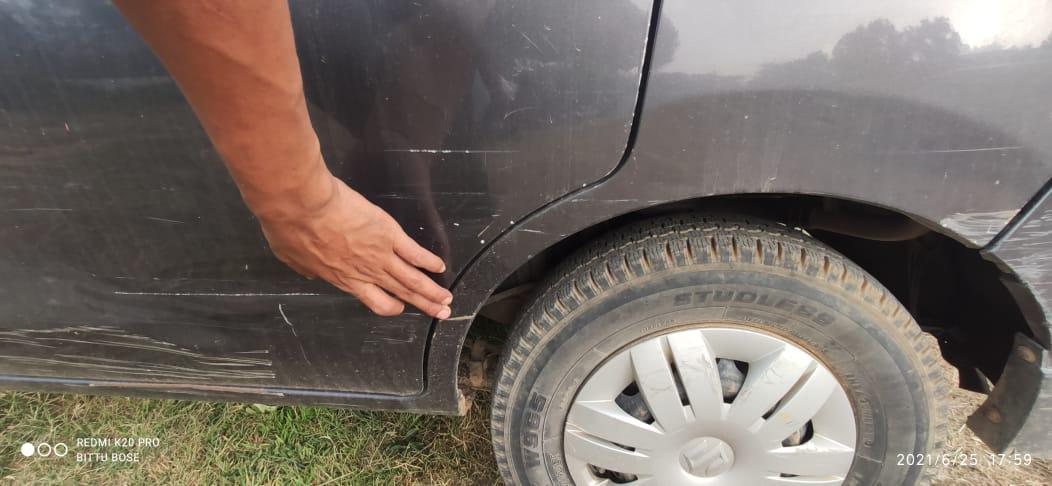doorouter-dent: (0, 0, 456, 393)
quaterpanel-dent: (630, 2, 1026, 276)
